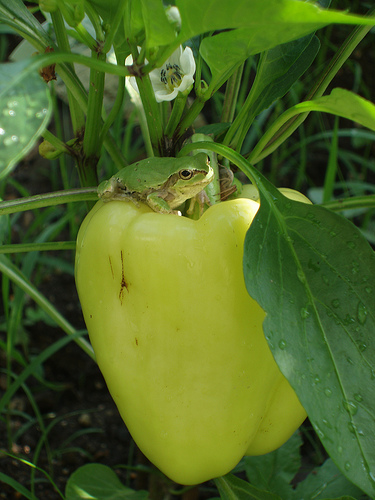capsicum: (75, 183, 312, 486)
